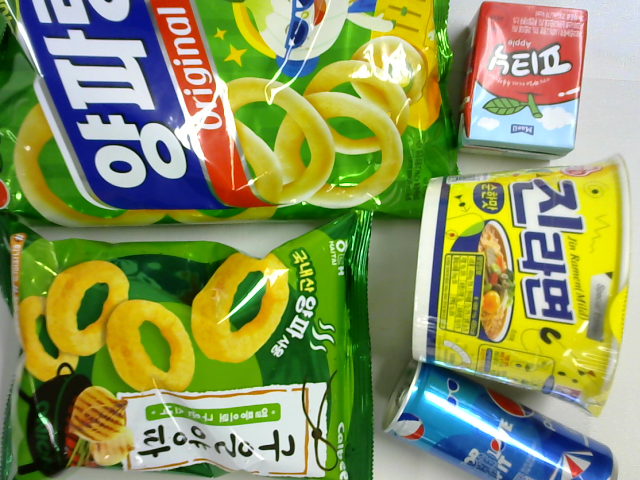Grilled_Onions: (1, 209, 376, 480)
Jinlamyeon_Mild_Taste_Large_Cup: (409, 154, 632, 415)
Oninon_Ring: (1, 1, 459, 230)
Pepsi_Cola_Can_250ml: (381, 363, 622, 480)
Picnic_Apple: (453, 1, 587, 159)
